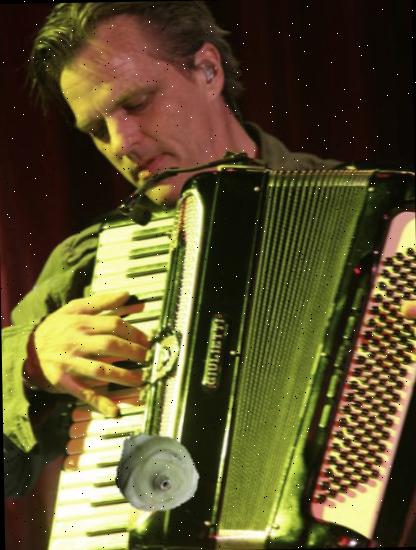Kohlrabi: (110, 425, 200, 514)
